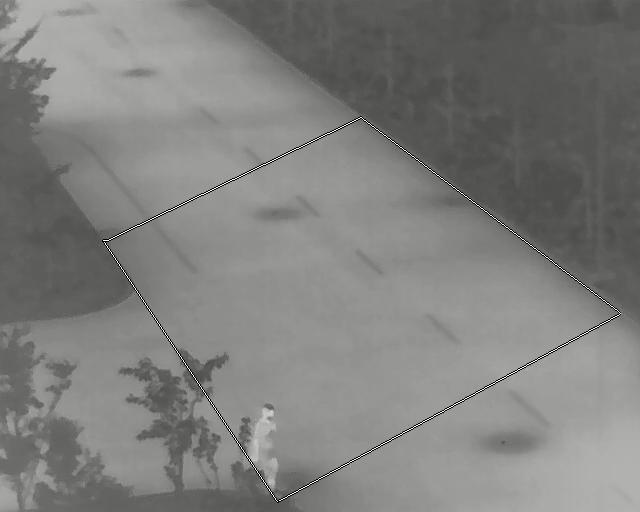person: (252, 401, 278, 489)
